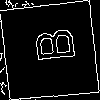B: (25, 26, 76, 65)
